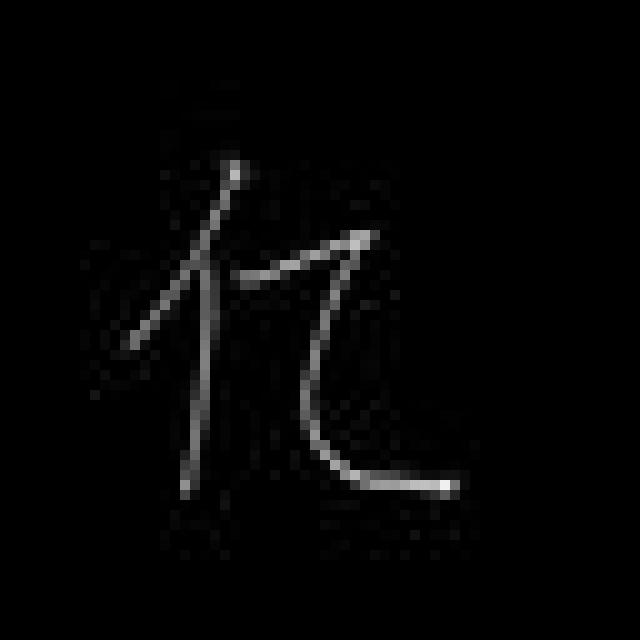100000 -a hundred thousand-: (118, 142, 472, 528)
